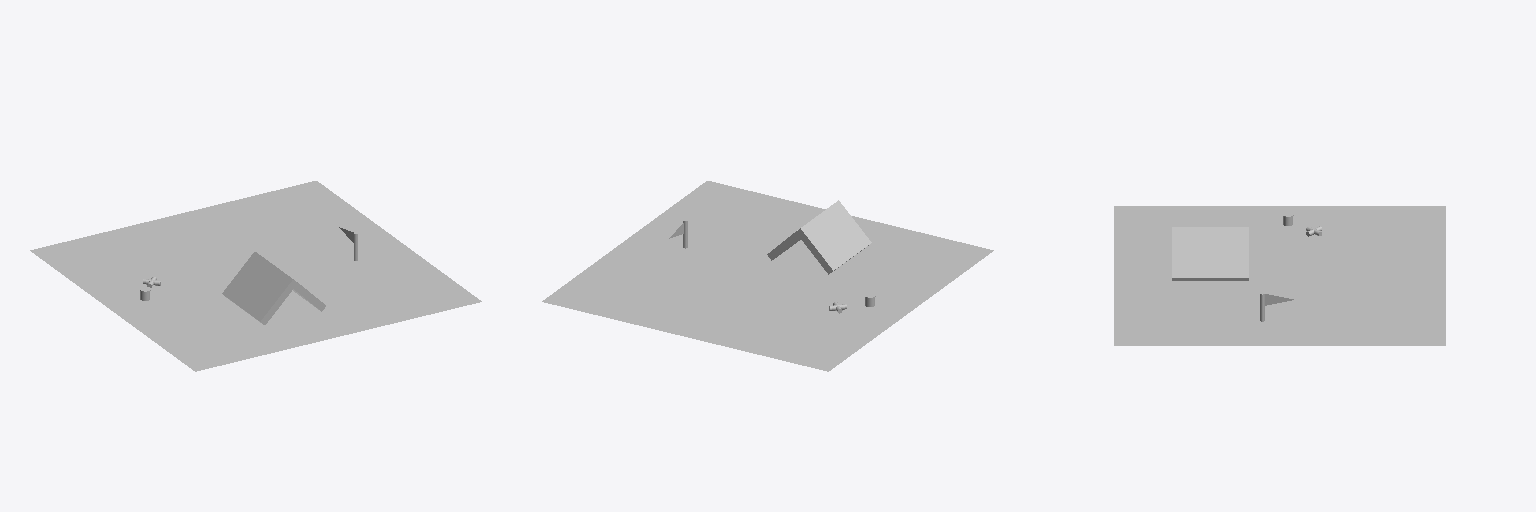
Rendered from DioramaHielo.obj.
The picture shows the model from 3 angles: view 1: azimuth 30°, elevation 25°; view 2: azimuth 150°, elevation 25°; view 3: azimuth 270°, elevation 25°; orthographic projection.
Visible parts, largest first — view 1: Plane_Plane, Lago_Plane.001, Tienda_Cube.002; view 2: Plane_Plane, Lago_Plane.001, Tienda_Cube.002; view 3: Plane_Plane, Lago_Plane.001, Tienda_Cube.002.
Boxes of the visible parts, x1=… form: Plane_Plane: x1=30, y1=181, x2=481, y2=371; Lago_Plane.001: x1=138, y1=205, x2=313, y2=266; Tienda_Cube.002: x1=222, y1=252, x2=325, y2=324; Plane_Plane: x1=542, y1=181, x2=993, y2=371; Lago_Plane.001: x1=630, y1=263, x2=787, y2=340; Tienda_Cube.002: x1=767, y1=200, x2=871, y2=274; Plane_Plane: x1=1114, y1=206, x2=1445, y2=345; Lago_Plane.001: x1=1291, y1=252, x2=1432, y2=306; Tienda_Cube.002: x1=1172, y1=227, x2=1248, y2=280.
Bounding box in the file's own units: 14.27 × 1.93 × 14.27.